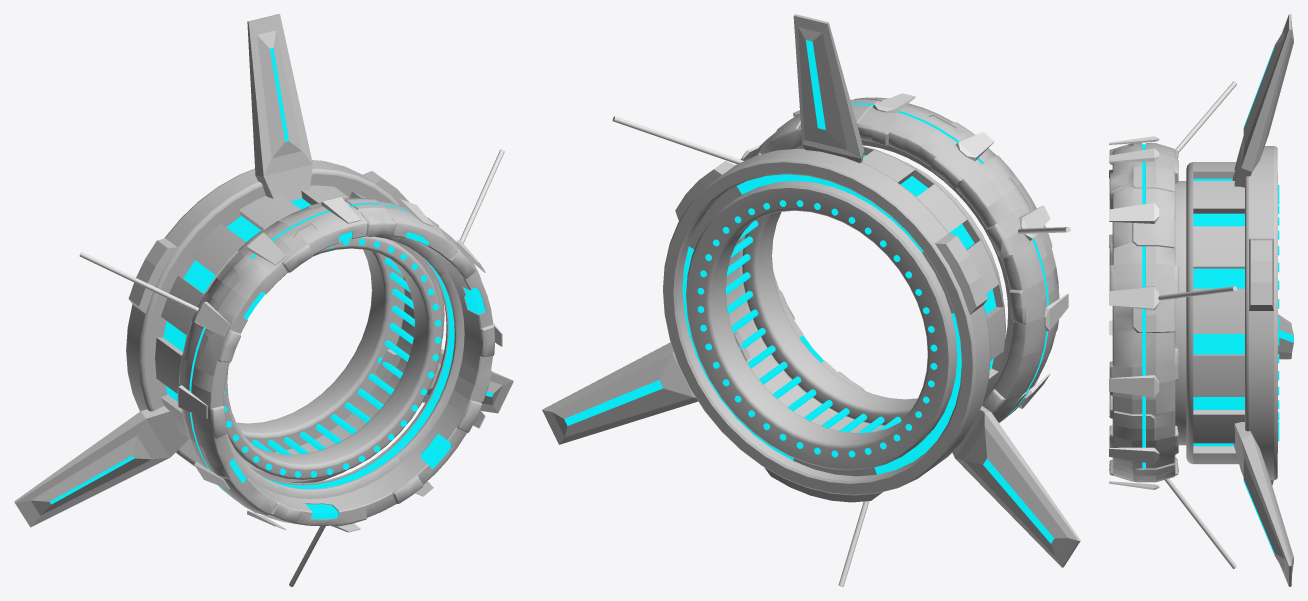
The model's file is Stargate 2.fbx.
3 views of the same model, side by side, from view 1: azimuth 30°, elevation 25°; view 2: azimuth 150°, elevation 25°; view 3: azimuth 270°, elevation 25° (orthographic). The views are drawn at different scales.
Visible parts, largest first — view 1: shape, Tube_1, Tube, Cube_0, Cube_2, Cube_1, Cylinder_0, Cube_10, Cube_11; view 2: Tube_1, shape, Tube, Cube_1, Cube_2, Cube_0, Cylinder_1; view 3: Tube_1, shape, Cube_0, Cube_1, Tube, Cube_2_2, Cube_3, Cube_1_2, Cube_4, Cylinder_2, Cube_2, Cube_0_2 (+2 smaller).
Part boxes in pixels (x1=…): shape: x1=179, y1=197, x2=494, y2=526; Tube_1: x1=126, y1=160, x2=444, y2=483; Tube: x1=223, y1=236, x2=442, y2=479; Cube_0: x1=247, y1=14, x2=312, y2=201; Cube_2: x1=14, y1=406, x2=188, y2=527; Cube_1: x1=375, y1=349, x2=513, y2=413; Cylinder_0: x1=79, y1=252, x2=198, y2=312; Cube_10: x1=194, y1=301, x2=229, y2=336; Cube_11: x1=247, y1=232, x2=285, y2=265; Tube_1: x1=663, y1=146, x2=1005, y2=502; shape: x1=739, y1=97, x2=1059, y2=428; Tube: x1=742, y1=161, x2=1003, y2=425; Cube_1: x1=542, y1=332, x2=750, y2=444; Cube_2: x1=952, y1=406, x2=1080, y2=567; Cube_0: x1=793, y1=14, x2=864, y2=163; Cylinder_1: x1=612, y1=116, x2=743, y2=164; Tube_1: x1=1186, y1=146, x2=1277, y2=485; shape: x1=1109, y1=143, x2=1178, y2=482; Cube_0: x1=1232, y1=14, x2=1293, y2=187; Cube_1: x1=1233, y1=422, x2=1293, y2=586; Tube: x1=1175, y1=181, x2=1186, y2=445; Cube_2_2: x1=1109, y1=286, x2=1159, y2=310; Cube_3: x1=1109, y1=375, x2=1159, y2=397; Cube_1_2: x1=1109, y1=203, x2=1159, y2=223; Cube_4: x1=1109, y1=447, x2=1159, y2=463; Cylinder_2: x1=1164, y1=478, x2=1236, y2=568; Cube_2: x1=1278, y1=314, x2=1293, y2=359; Cube_0_2: x1=1109, y1=148, x2=1159, y2=162.
Bounding box in the file's own units: 5309 × 5572 × 1707.
